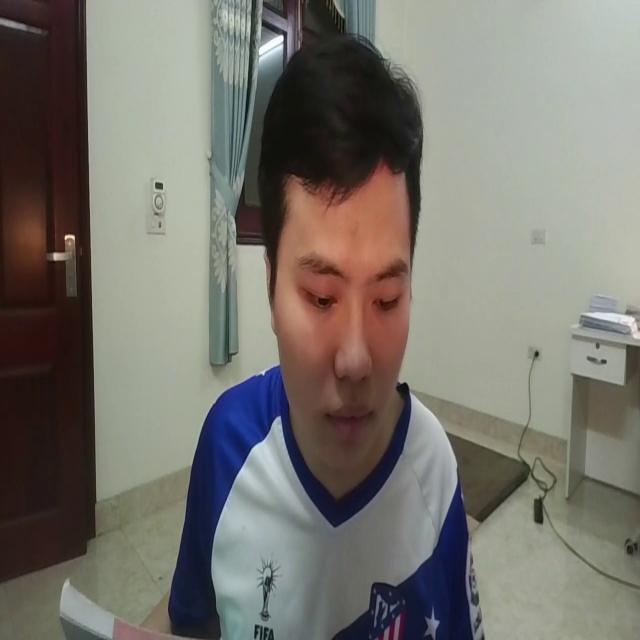book: (50, 550, 146, 640)
student: (173, 6, 495, 640)
